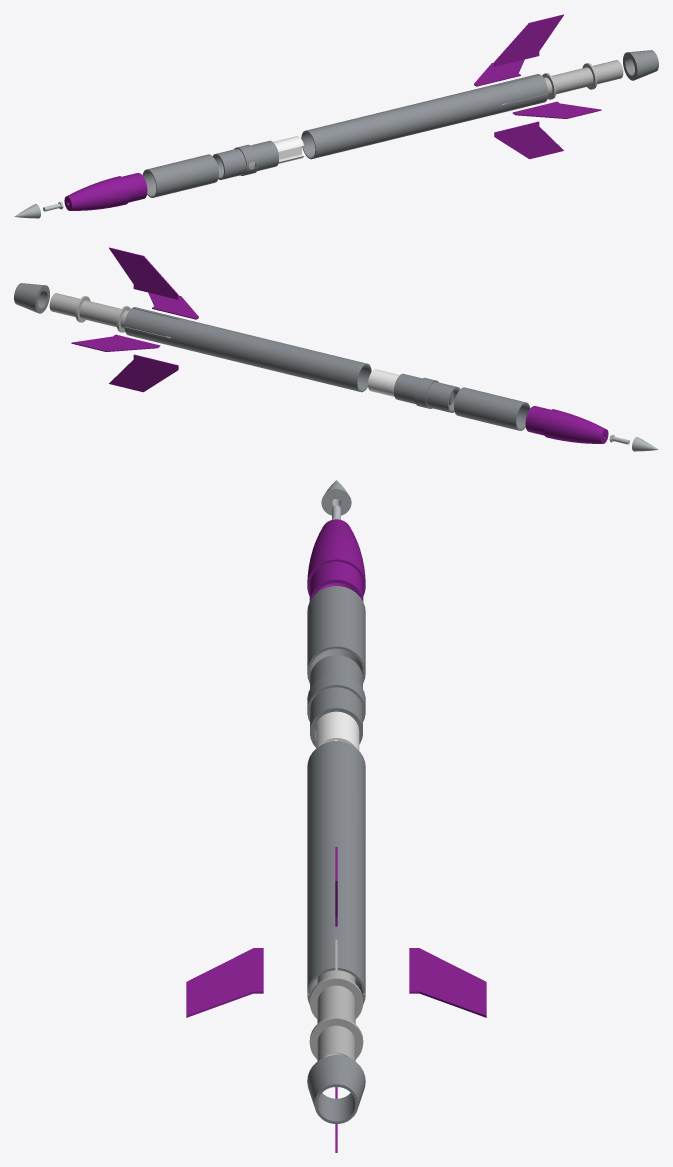
The model's file is rocket-assembly-exploded.glb.
3 renders of one model, top to bottom at view 1: azimuth 30°, elevation 25°; view 2: azimuth 150°, elevation 25°; view 3: azimuth 270°, elevation 25°, orthographic. The views are drawn at different scales.
Visible parts, largest first — view 1: Part 1 (×11); view 2: Part 1 (×11); view 3: Part 1 (×9).
Part boxes in pixels (left/top/right/bottom): Part 1 (×11): left=64, top=14, right=658, bottom=210; Part 1 (×11): left=14, top=247, right=608, bottom=443; Part 1 (×9): left=186, top=519, right=486, bottom=1123.
Bounding box in the file's own units: 2.1 × 0.4259 × 0.4259.
